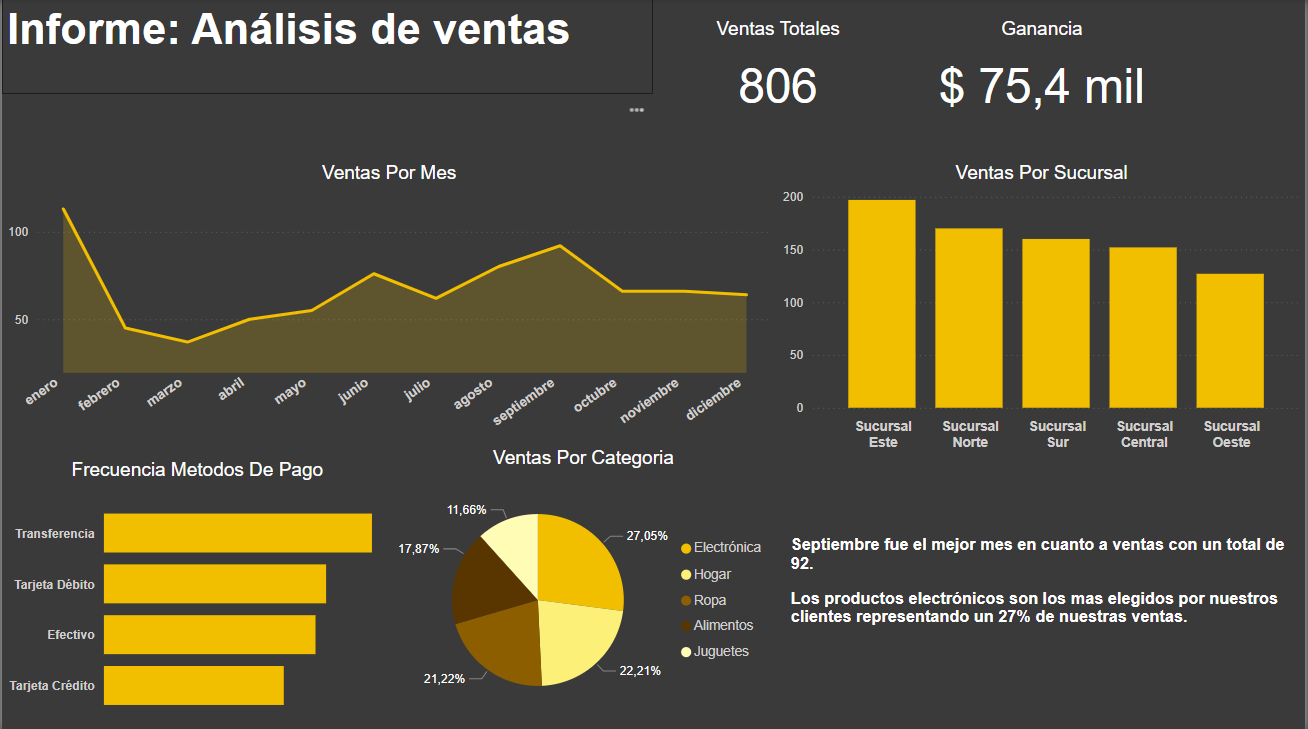

This screenshot's page, from the dashboard's own definition file:
{"tool":"powerbi","page":{"name":"Página 1","canvas":[1280,720],"ordinal":0},"visuals":[{"type":"lineChart","title":"Ventas Por Mes","fields":{"Category":["retail_sales.sale_date.Variación.Jerarquía de fechas.Mes"],"Y":["Sum(retail_sales.quantity)"]},"box":[0,159.7,760.1,279.8],"z":0},{"type":"pieChart","title":"Ventas Por Categoria","fields":{"Category":["retail_products.category"],"Y":["Sum(retail_sales.quantity)"]},"box":[381.8,439.5,378.2,281],"z":1000},{"type":"columnChart","title":"Ventas Por Sucursal","fields":{"Category":["retail_stores.name"],"Y":["Sum(retail_sales.quantity)"]},"box":[760.8,160.1,519.6,291.9],"z":2000},{"type":"card","title":"Ventas Totales","fields":{"Values":["Sum(retail_sales.quantity)"]},"box":[660.8,17.9,200.9,108.3],"z":3000},{"type":"card","title":"Ganancia","fields":{"Values":["retail_products.Suma de price menos Suma de cost"]},"box":[870.7,19,299.2,108.3],"z":4000},{"type":"clusteredBarChart","title":"Frecuencia Metodos De Pago","fields":{"Category":["retail_sales.payment_method"],"Y":["CountNonNull(retail_sales.payment_method)"]},"box":[1.1,452,381,268.3],"z":5000},{"type":"textbox","box":[769.1,521.3,511.3,129.5],"z":5001},{"type":"textbox","box":[0,0,639.6,92.7],"z":5002}]}

Visuals, with their boxes in screenshot pixels (x1, y1, x2, y2), scaled from the page's 1280x720 canvas onto the 1308x729 screenshot:
"Ventas Por Mes" lineChart: (x1=0, y1=162, x2=777, y2=445)
"Ventas Por Categoria" pieChart: (x1=390, y1=445, x2=777, y2=728)
"Ventas Por Sucursal" columnChart: (x1=777, y1=162, x2=1307, y2=458)
"Ventas Totales" card: (x1=675, y1=18, x2=881, y2=128)
"Ganancia" card: (x1=890, y1=19, x2=1195, y2=129)
"Frecuencia Metodos De Pago" clusteredBarChart: (x1=1, y1=458, x2=390, y2=728)
textbox: (x1=786, y1=528, x2=1307, y2=659)
textbox: (x1=0, y1=0, x2=654, y2=94)
